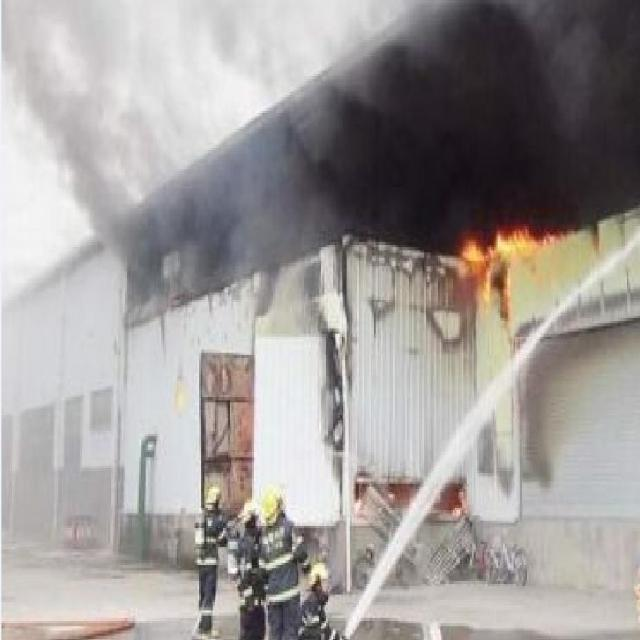Fire: (487, 225, 575, 258), (460, 234, 486, 274), (502, 260, 512, 319), (484, 259, 492, 306)
Smoke: (170, 0, 640, 299), (0, 0, 168, 640)
